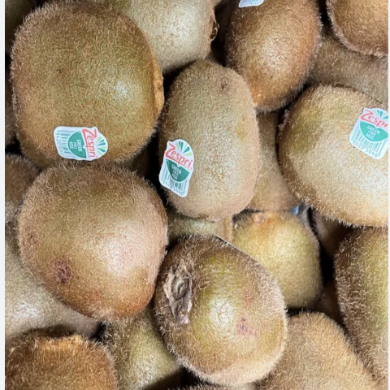kiwi: (8, 0, 177, 181), (14, 146, 183, 323), (126, 241, 310, 386), (153, 56, 277, 238), (278, 66, 390, 232)
